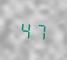four: (19, 19, 32, 39)
seven: (33, 20, 46, 40)
